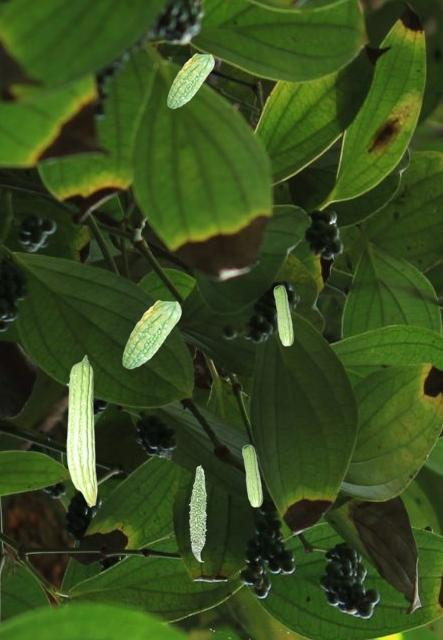ampalaya: (66, 354, 97, 507), (122, 299, 182, 369), (166, 53, 215, 109), (188, 464, 207, 562), (241, 444, 263, 507), (273, 284, 294, 346)
